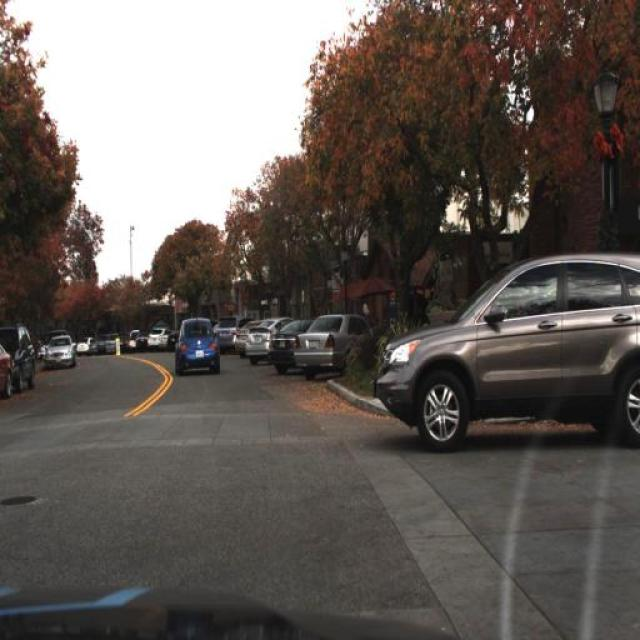car: (370, 245, 640, 450), (295, 312, 376, 382), (176, 308, 222, 377), (1, 323, 38, 392), (244, 308, 288, 364), (271, 312, 310, 352), (44, 334, 77, 368), (0, 344, 12, 401), (146, 324, 166, 350), (76, 336, 90, 356)
trafficLight: (358, 296, 372, 346)
